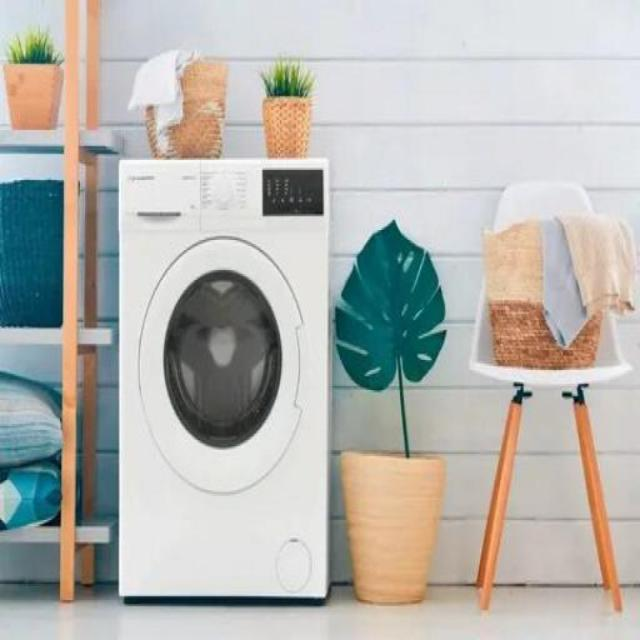Washing-Machine: (119, 157, 327, 595)
